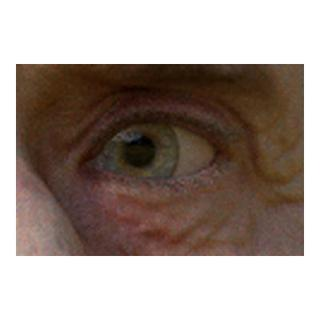pupil: (125, 137, 154, 166)
